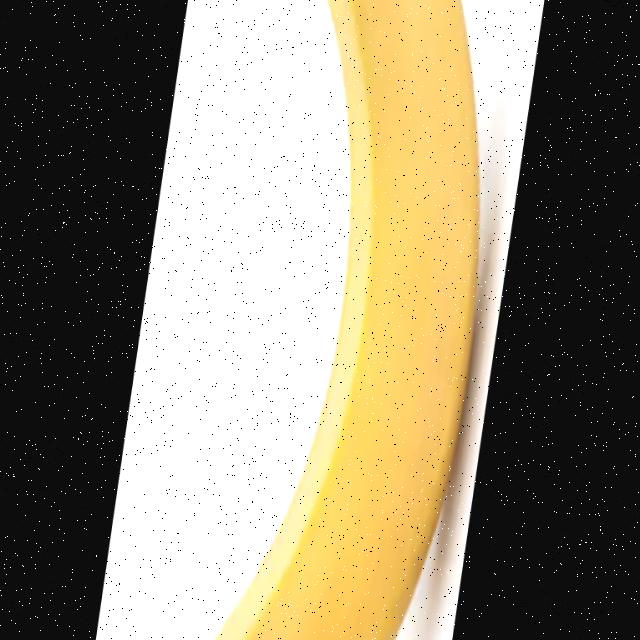god quality banana: (97, 2, 480, 638)
